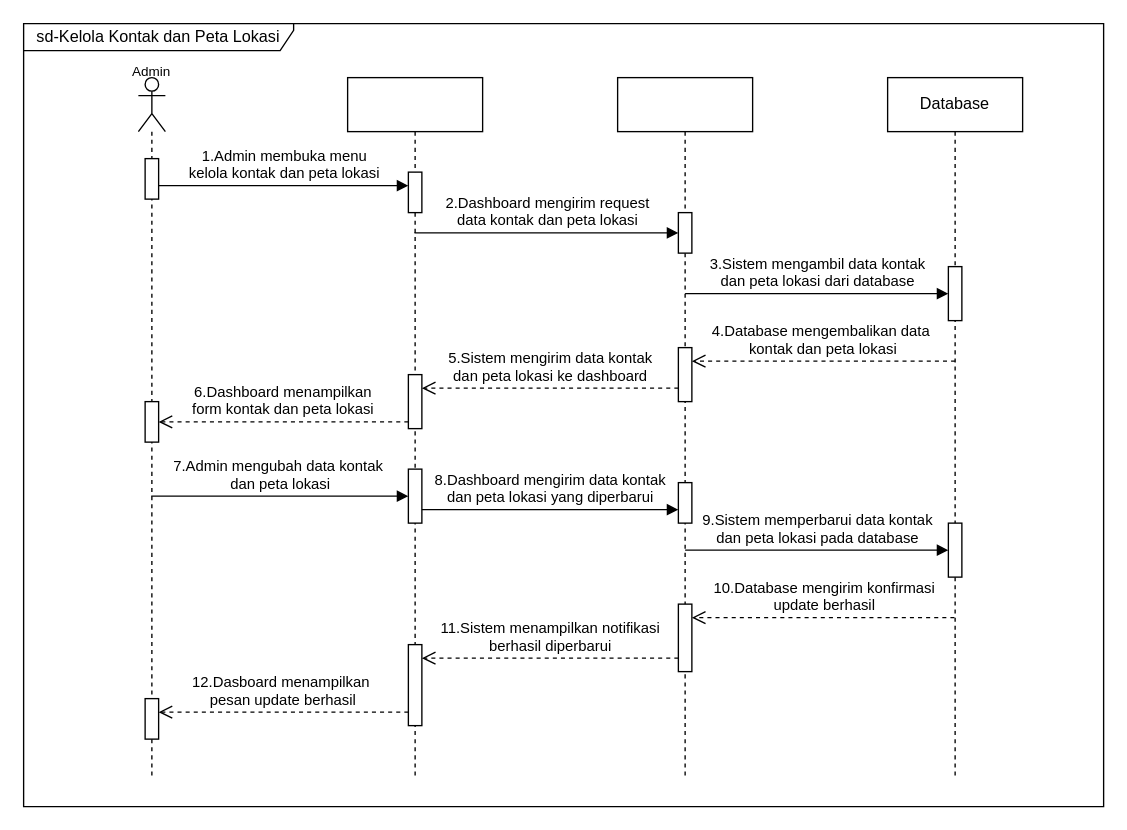
The diagram is 1127 pixels wide and 830 high, and some of its shapes have lost their labels. The box of each missing label's shape, as (x1, y1, x2, y2) in pixels:
AdminController: (616, 76, 753, 780)
Dashboard Admin: (346, 76, 483, 780)
